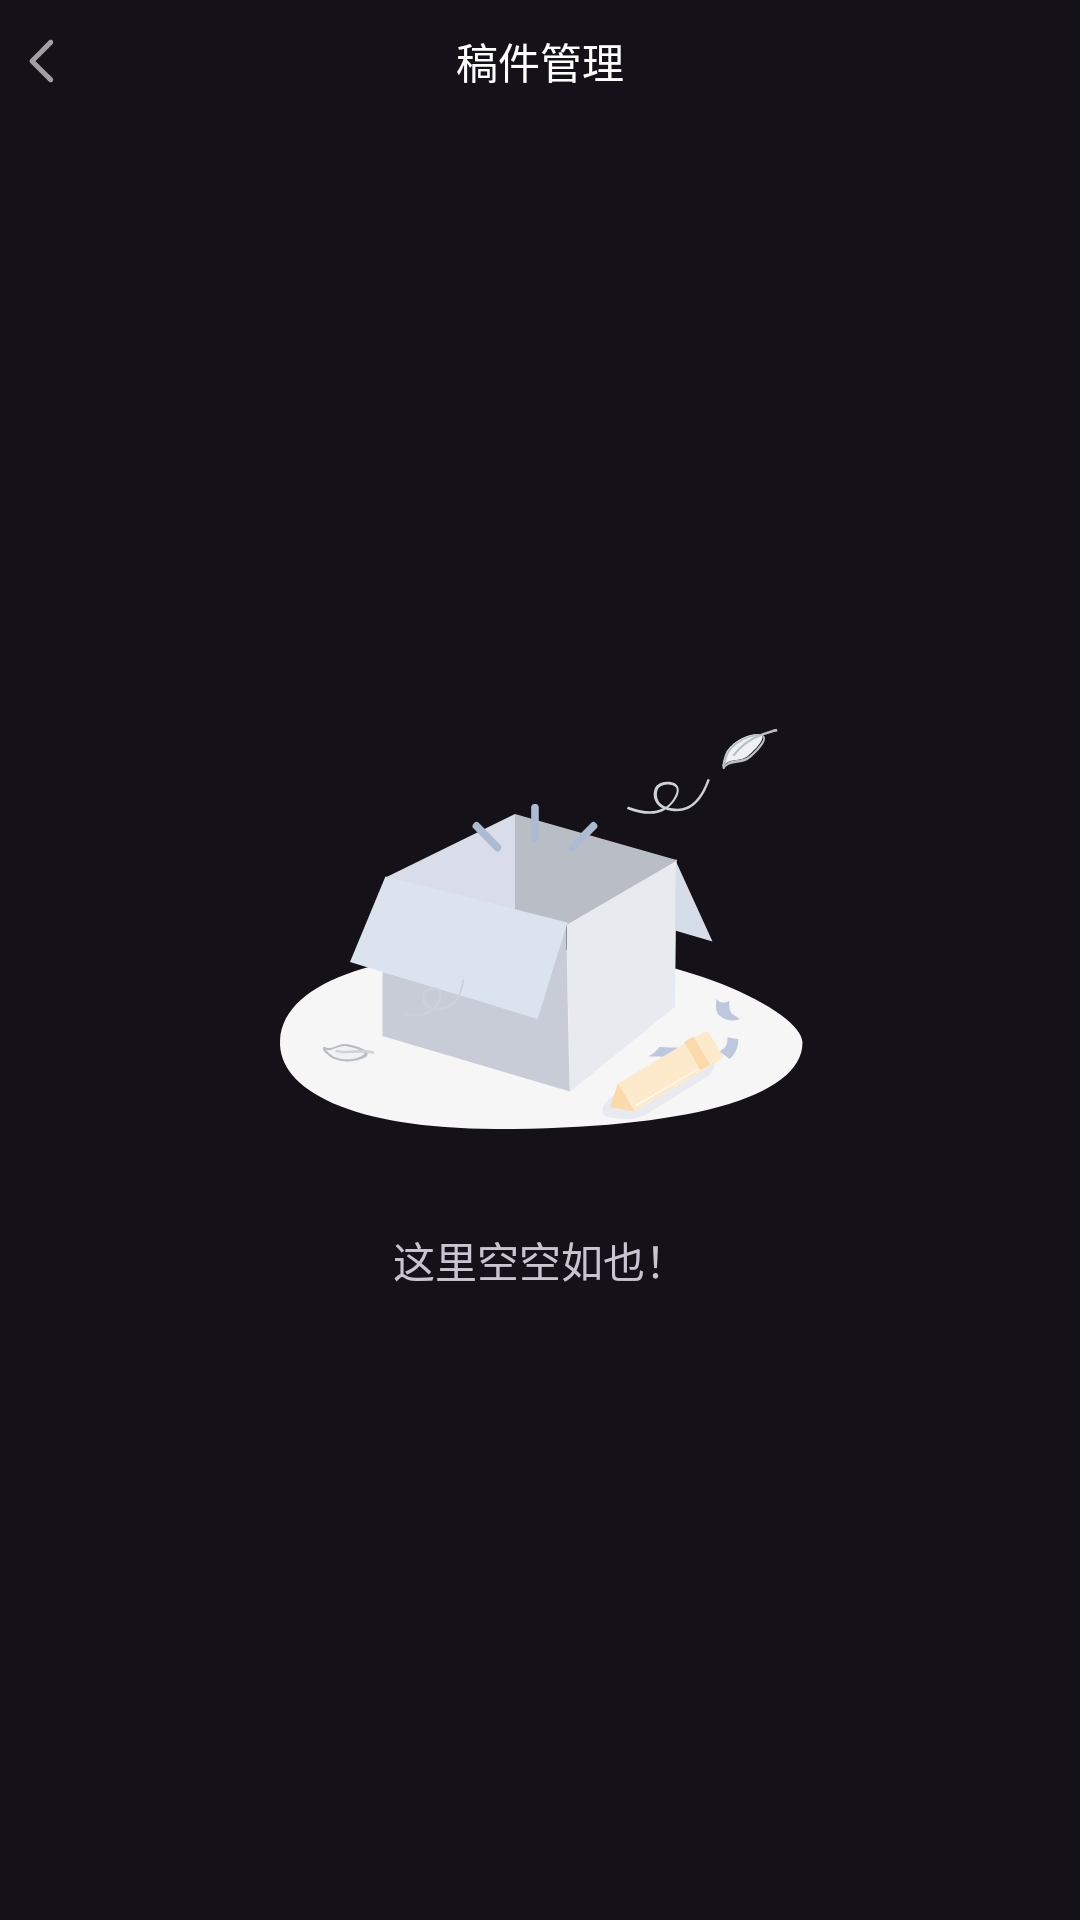

Screen size 1080w x 1920h. Icon name, then its center in pixels as (x=x, y=y):
back: (x=41, y=61)
